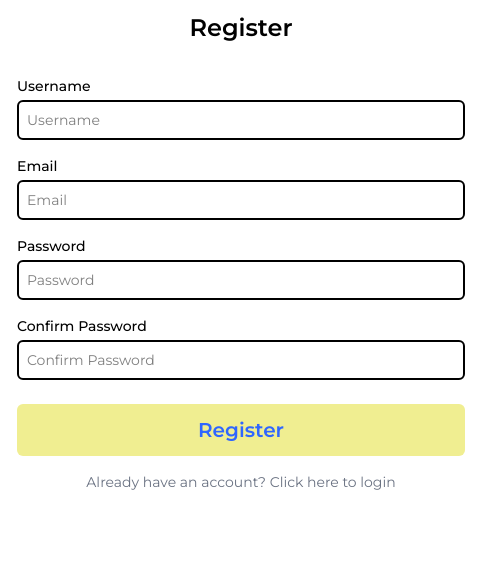
RegisterView › should display error message if passwords do not match
The width and height of the screenshot is (483, 567).
In the password field with placeholder "Password": [241, 280] box [17,260,465,300], type "password"
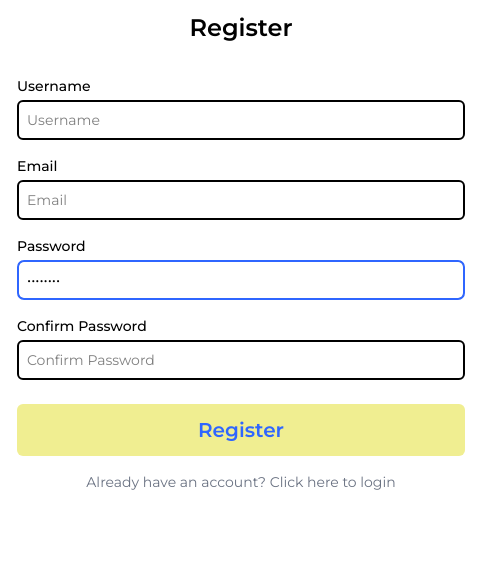
In the password field with placeholder "Confirm Password": [241, 360] box [17,340,465,380], type "password2"
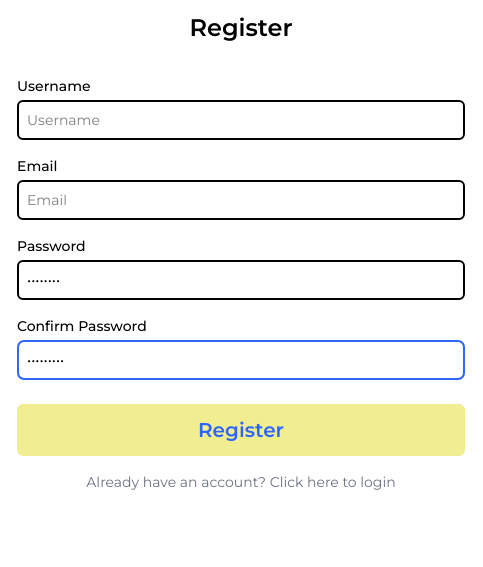
Click the button "Register": [241, 430] box [17,404,465,456]
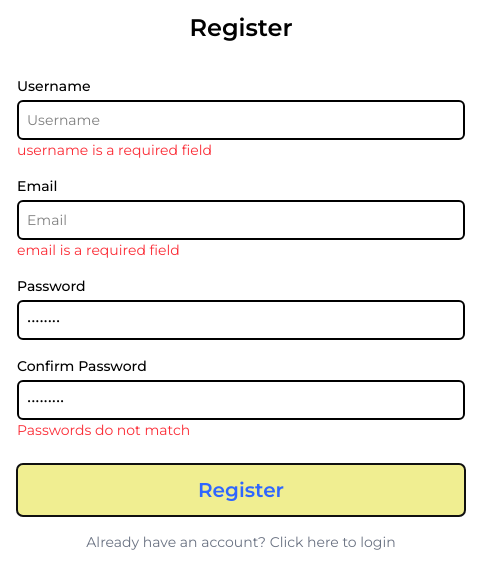
Expected: the text "Passwords do not match" is shown, [17,421,190,439]
